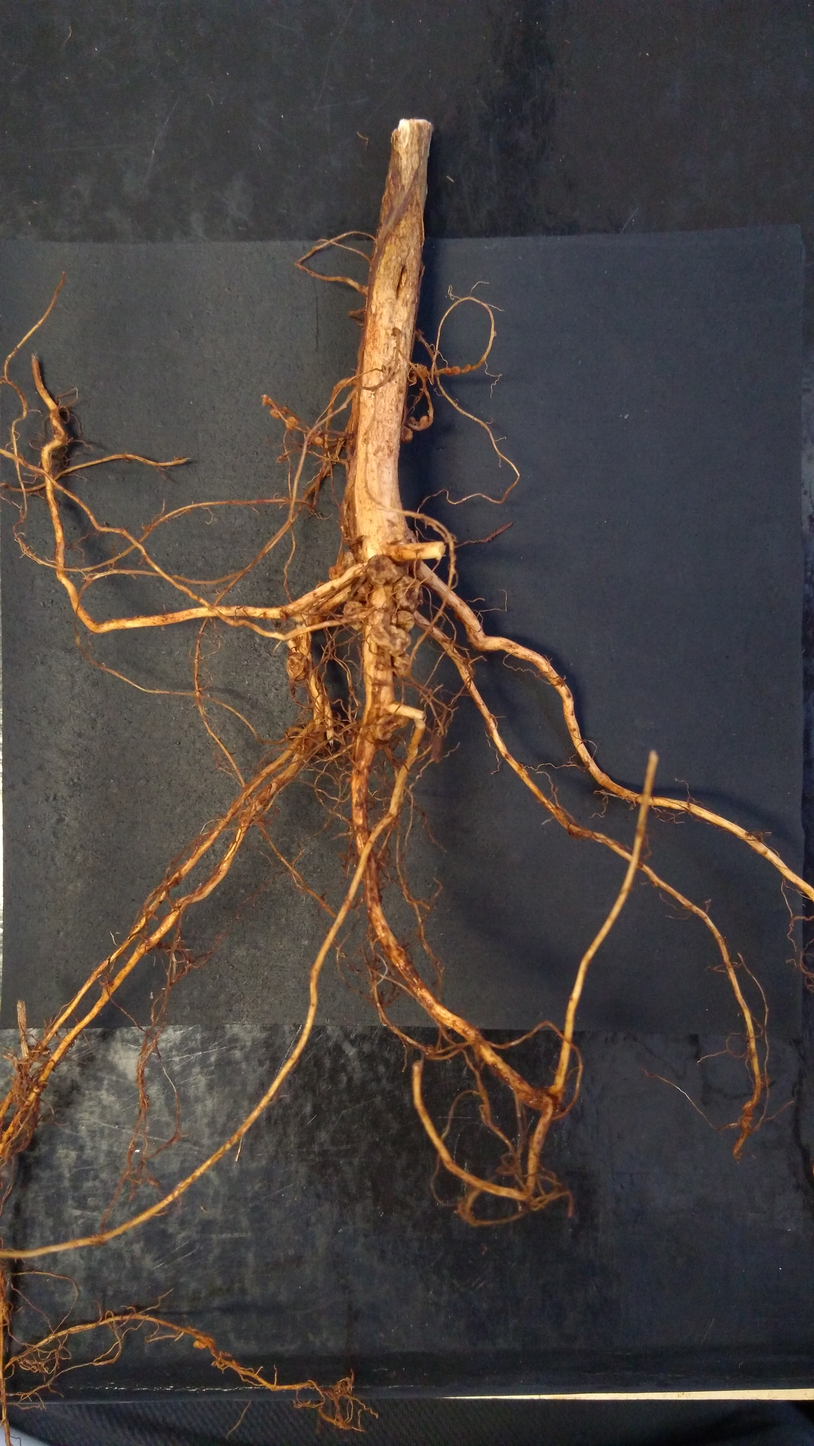nodule: (362, 549, 409, 588), (365, 622, 413, 657), (390, 571, 428, 614), (374, 711, 411, 743), (282, 650, 309, 682), (341, 600, 366, 633), (390, 650, 416, 678), (393, 607, 418, 634), (324, 563, 349, 582), (339, 548, 357, 572), (192, 1334, 215, 1350), (399, 426, 414, 444), (306, 612, 324, 627), (285, 413, 299, 430), (258, 393, 274, 407), (312, 433, 324, 450), (418, 413, 431, 427), (276, 610, 288, 623), (408, 414, 419, 428), (463, 362, 474, 374), (268, 406, 278, 419), (451, 366, 461, 376)
